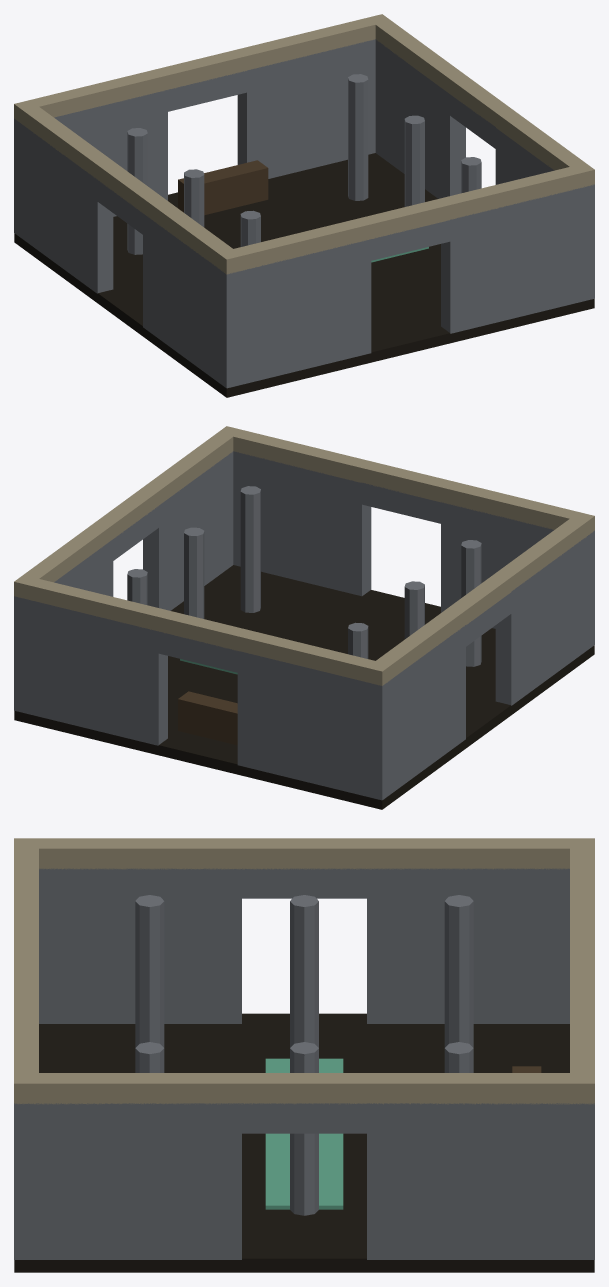
File: GreatHallMain.fbx
The picture shows the model from 3 angles, top to bottom: view 1: azimuth 30°, elevation 25°; view 2: azimuth 150°, elevation 25°; view 3: azimuth 270°, elevation 25°; orthographic projection. The views are drawn at different scales.
Visible parts, largest first — view 1: GreatHallMain; view 2: GreatHallMain; view 3: GreatHallMain.
Boxes of the visible parts, bbox=[...] form: GreatHallMain: bbox=[14, 14, 594, 397]; GreatHallMain: bbox=[14, 426, 594, 809]; GreatHallMain: bbox=[14, 838, 594, 1272].
Bounding box in the file's own units: 1202 × 432 × 1202.
Materials: 5 (5 with a texture image).
